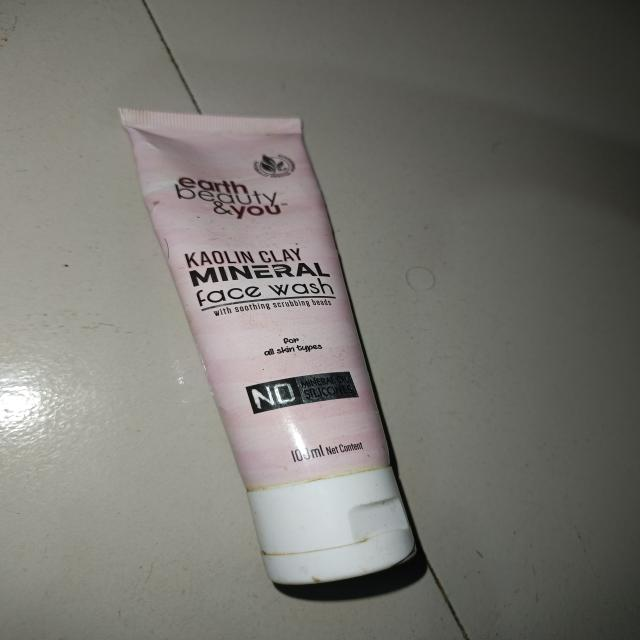Squeeze Tube: (107, 96, 430, 621)
